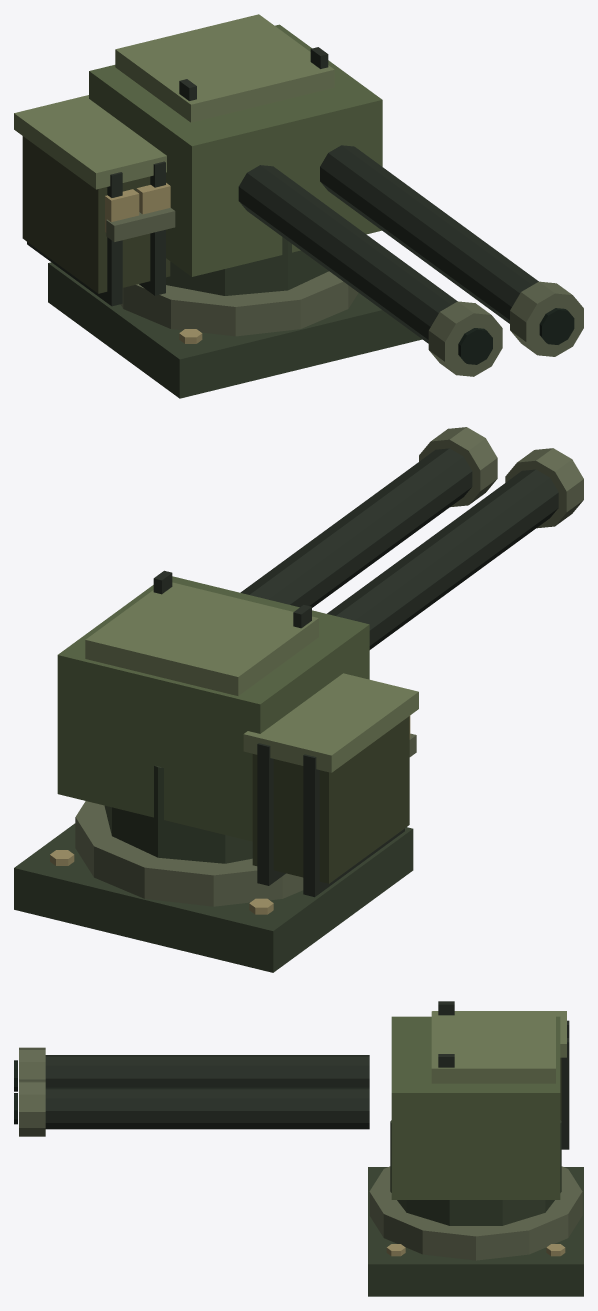
The model's file is anti_air_station.obj.
3 views of the same model, one above another, from view 1: azimuth 30°, elevation 25°; view 2: azimuth 150°, elevation 25°; view 3: azimuth 270°, elevation 25° (orthographic). The views are drawn at different scales.
Parts seen in each view (by area): view 1: MOVING.002, BASE.007; view 2: MOVING.002, BASE.007; view 3: MOVING.002, BASE.007.
Boxes of the visible parts, box(x1,y1,x2,y2) form: MOVING.002: box(14, 14, 583, 376); BASE.007: box(48, 262, 422, 398); MOVING.002: box(57, 427, 583, 897); BASE.007: box(14, 801, 413, 972); MOVING.002: box(14, 1001, 569, 1225); BASE.007: box(368, 1166, 583, 1296).
Size of the model in its own units: 0.9225 by 0.815 by 1.93.
1 material, 1 textured.
